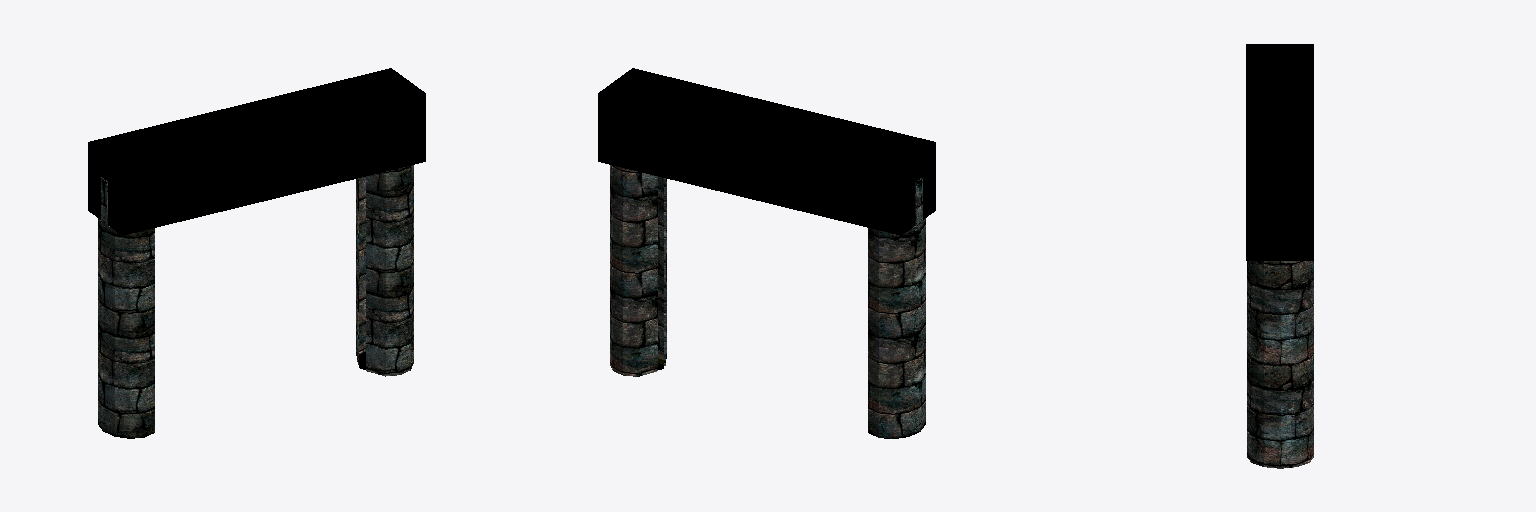
3 views of the same model, side by side, from view 1: azimuth 30°, elevation 25°; view 2: azimuth 150°, elevation 25°; view 3: azimuth 270°, elevation 25° (orthographic).
Parts seen in each view (by area): view 1: big_doorway; view 2: big_doorway; view 3: big_doorway.
Part boxes in pixels (bbox=[...]): big_doorway: bbox=[88, 68, 425, 438]; big_doorway: bbox=[598, 68, 935, 438]; big_doorway: bbox=[1246, 44, 1313, 468].
Size of the model in its own units: 325 by 281 by 63.01.
Materials: 2 (1 with a texture image).